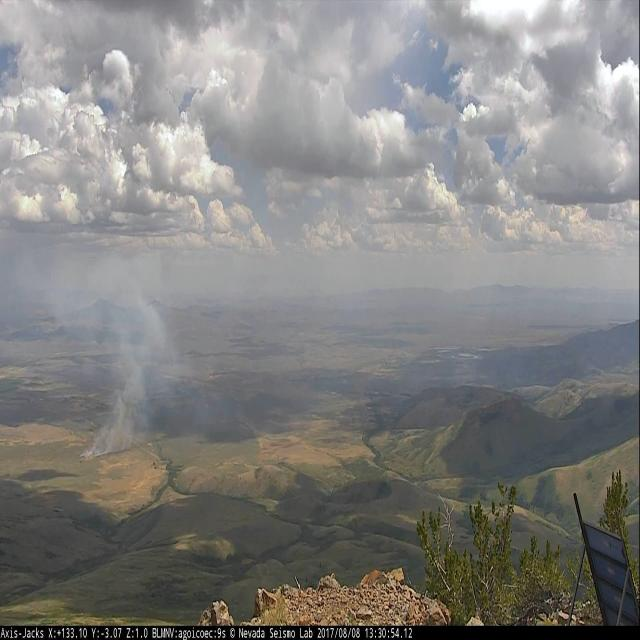smoke: (78, 307, 164, 465)
